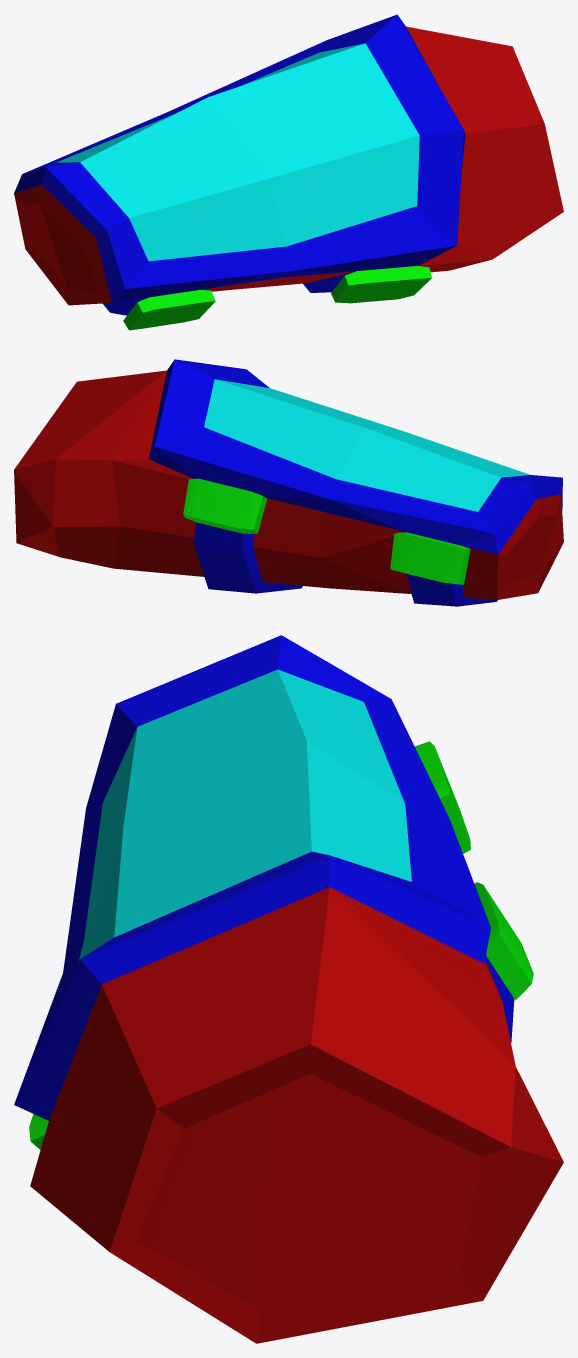
File: Chr_ArmLowerRight_Male_Static_08.fbx
3 renders of one model, top to bottom at view 1: azimuth 30°, elevation 25°; view 2: azimuth 150°, elevation 25°; view 3: azimuth 270°, elevation 25°, orthographic. The views are drawn at different scales.
Parts seen in each view (by area): view 1: Chr_ArmLowerRight_Male_08; view 2: Chr_ArmLowerRight_Male_08; view 3: Chr_ArmLowerRight_Male_08.
Boxes of the visible parts, <box> form: Chr_ArmLowerRight_Male_08: <box>14,14,563,330</box>; Chr_ArmLowerRight_Male_08: <box>14,359,563,606</box>; Chr_ArmLowerRight_Male_08: <box>14,635,563,1343</box>.
Size of the model in its own units: 29.09 by 13.74 by 15.93.
